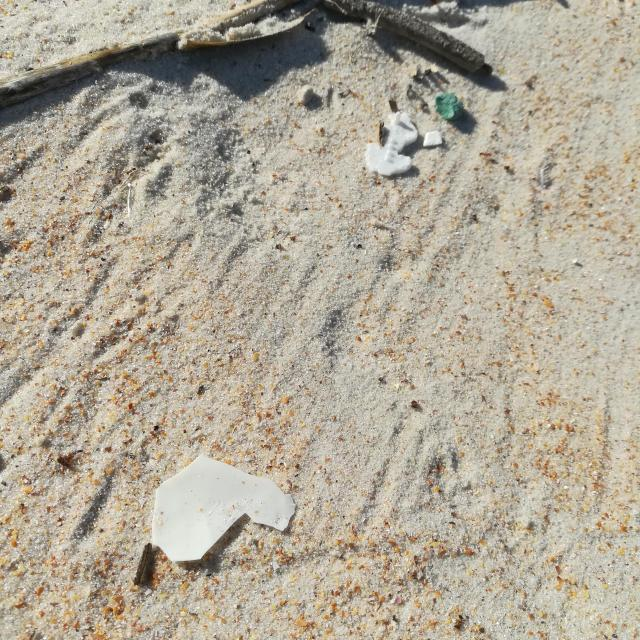litter: (151, 112, 442, 563)
